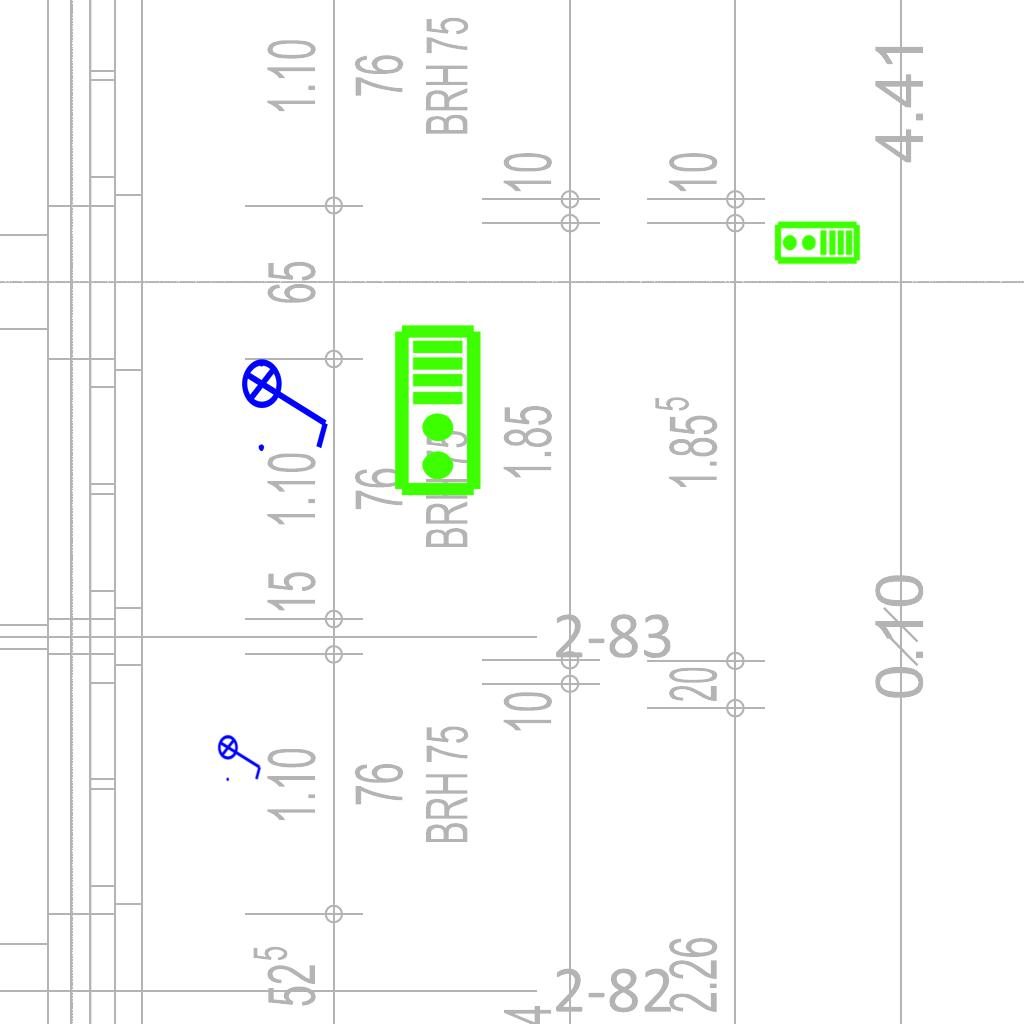Ausschalter_beleuchtet: (240, 345, 336, 457), (217, 728, 265, 784)
Gegensprechanlage_mit_Video: (392, 323, 487, 499), (773, 220, 861, 267)
